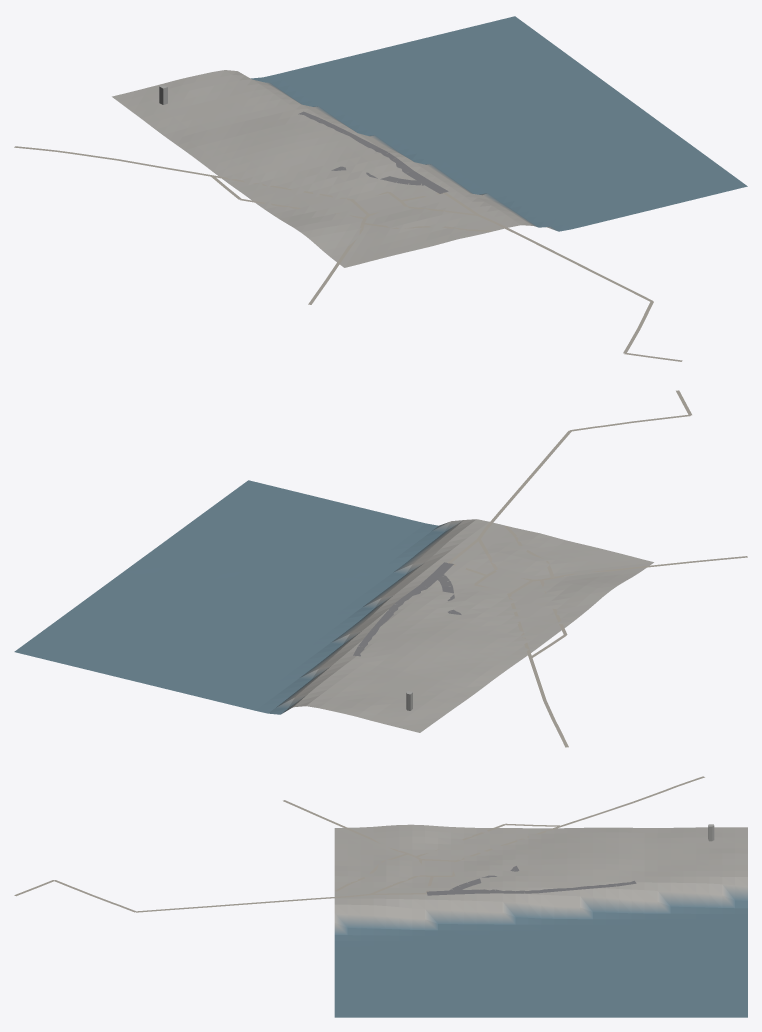
Rendered from tile_3_3.glb.
3 views of the same model, one above another, from view 1: azimuth 30°, elevation 25°; view 2: azimuth 150°, elevation 25°; view 3: azimuth 270°, elevation 25° (orthographic). The views are drawn at different scales.
Visible parts, largest first — view 1: terrain, roads; view 2: terrain, roads; view 3: terrain, roads.
Part boxes in pixels (bbox=[...]): terrain: bbox=[112, 16, 747, 267]; roads: bbox=[14, 111, 682, 361]; terrain: bbox=[14, 480, 653, 732]; roads: bbox=[353, 390, 747, 747]; terrain: bbox=[334, 824, 747, 1017]; roads: bbox=[14, 776, 704, 912].
Bounding box in the file's own units: 334 × 21.4 × 455.
